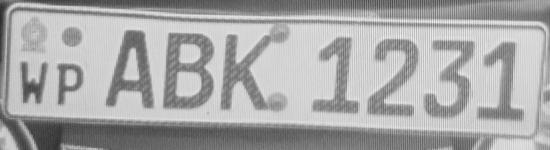1: (478, 27, 530, 131), (309, 27, 363, 123)
2: (364, 28, 422, 123)
3: (422, 29, 479, 123)
B: (162, 26, 218, 117)
K: (218, 26, 282, 116)
P: (100, 24, 158, 115), (55, 58, 88, 110)
W: (17, 55, 54, 110)
